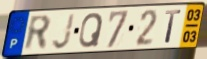2: (135, 9, 158, 48)
7: (107, 9, 130, 50)
J: (51, 12, 77, 51)
Q: (77, 11, 105, 50)
R: (23, 14, 52, 53)
T: (164, 9, 183, 45)
